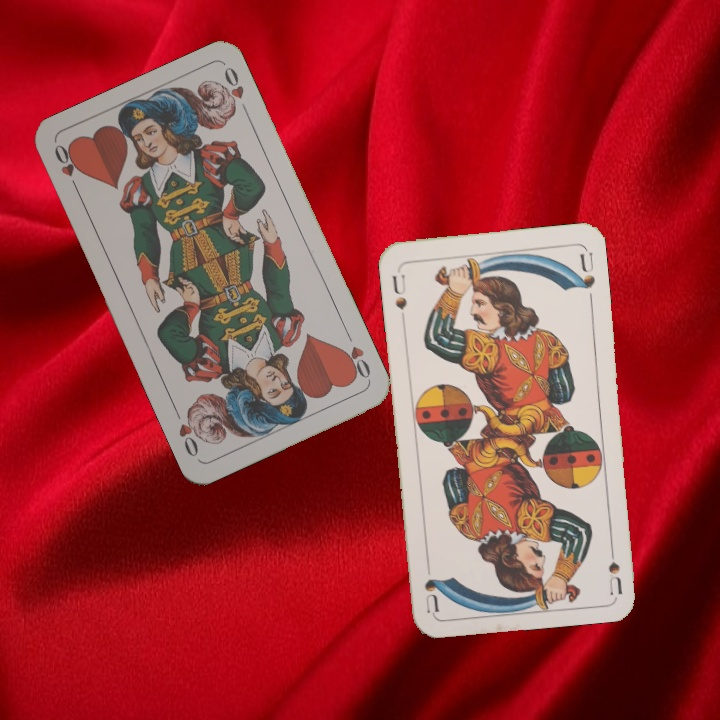HO: (338, 327, 373, 383), (50, 139, 83, 196)
SU: (604, 536, 624, 596), (388, 270, 410, 324)
